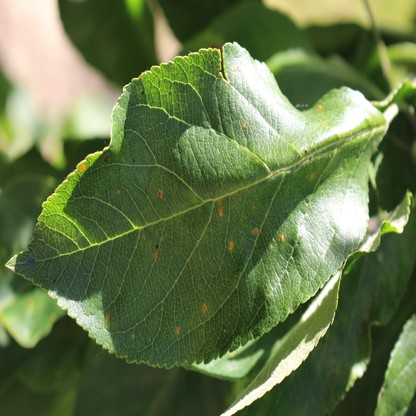rust: (202, 302, 208, 312), (154, 251, 159, 262), (229, 240, 234, 251), (218, 207, 223, 217), (79, 164, 86, 171), (251, 227, 258, 234), (156, 188, 162, 196), (280, 232, 285, 241), (103, 155, 109, 161), (115, 188, 120, 195), (175, 325, 179, 333), (310, 172, 314, 179), (317, 104, 322, 109), (217, 199, 221, 204), (105, 316, 109, 320), (242, 123, 245, 127)
